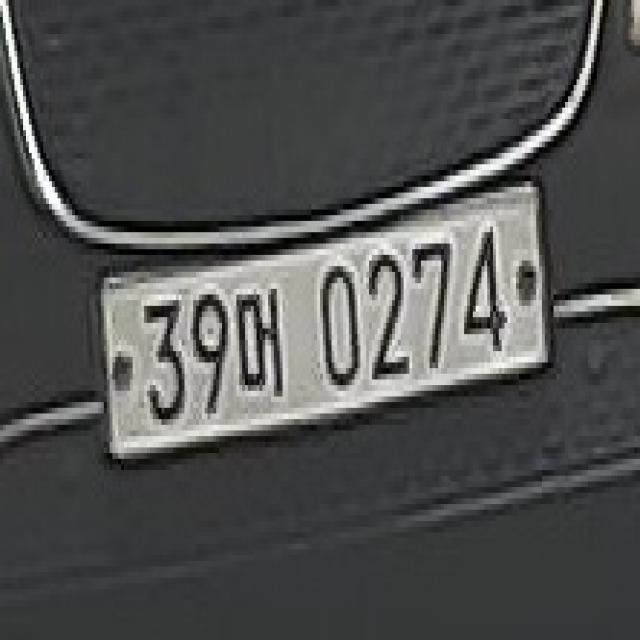0: (317, 260, 363, 396)
2: (366, 249, 409, 391)
3: (142, 294, 188, 425)
4: (462, 226, 508, 357)
7: (410, 238, 452, 374)
9: (190, 289, 228, 425)
license_plate: (98, 176, 554, 464)
meo: (233, 277, 286, 408)
